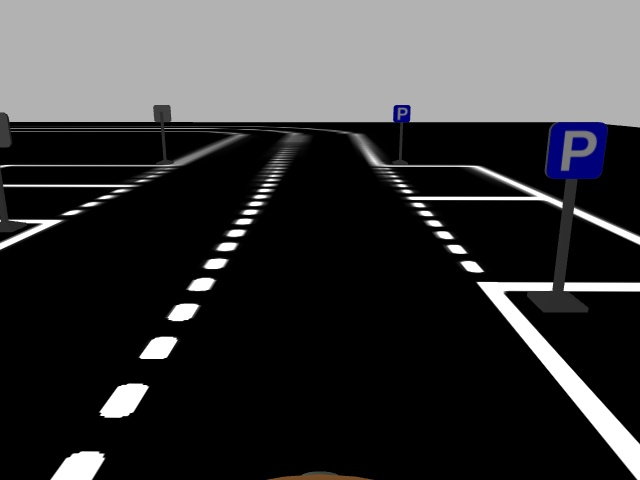parking: (543, 119, 608, 178), (392, 103, 410, 123)
